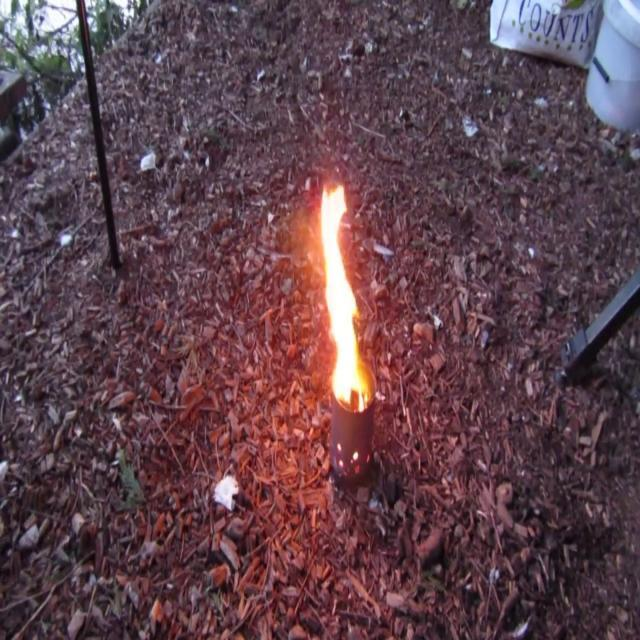Fire: (310, 181, 370, 403)
